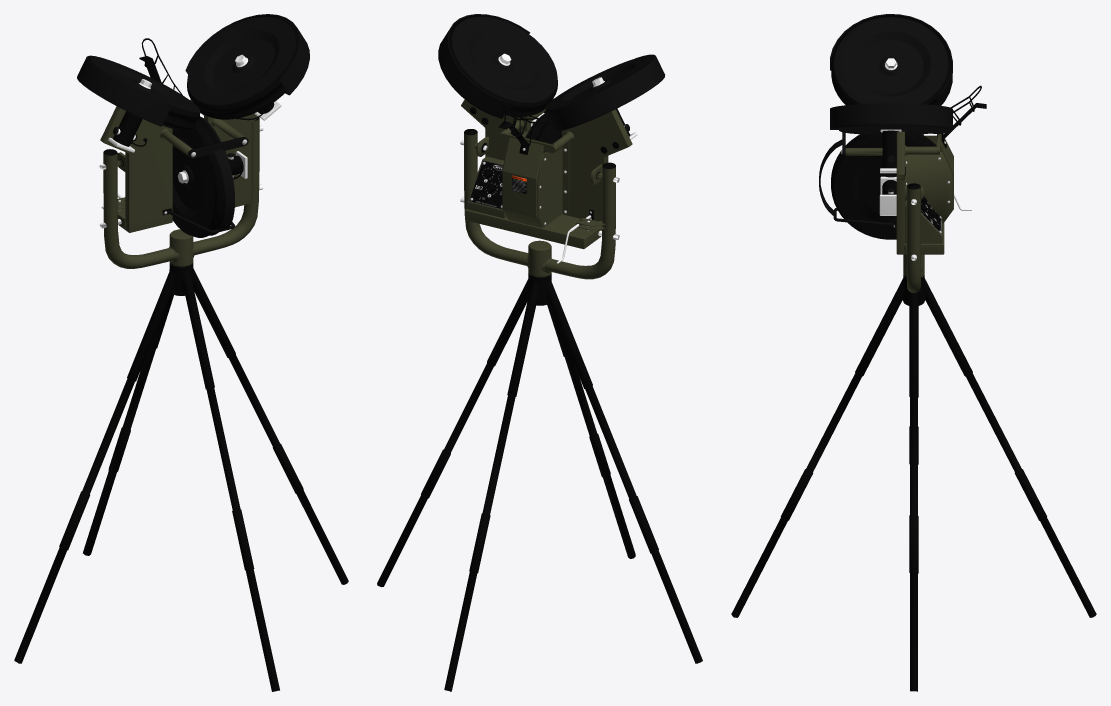
The picture shows the model from 3 angles, left to right: view 1: azimuth 30°, elevation 25°; view 2: azimuth 150°, elevation 25°; view 3: azimuth 270°, elevation 25°; orthographic projection. The views are drawn at different scales.
Visible parts, largest first — view 1: PitchingMachine; view 2: PitchingMachine; view 3: PitchingMachine.
Part boxes in pixels (box(x1,y1,x2,y2)): PitchingMachine: box(14, 14, 348, 691); PitchingMachine: box(377, 14, 702, 691); PitchingMachine: box(731, 14, 1096, 691).
Bounding box in the file's own units: 1.67 × 2.82 × 1.67.
1 material, 1 textured.
